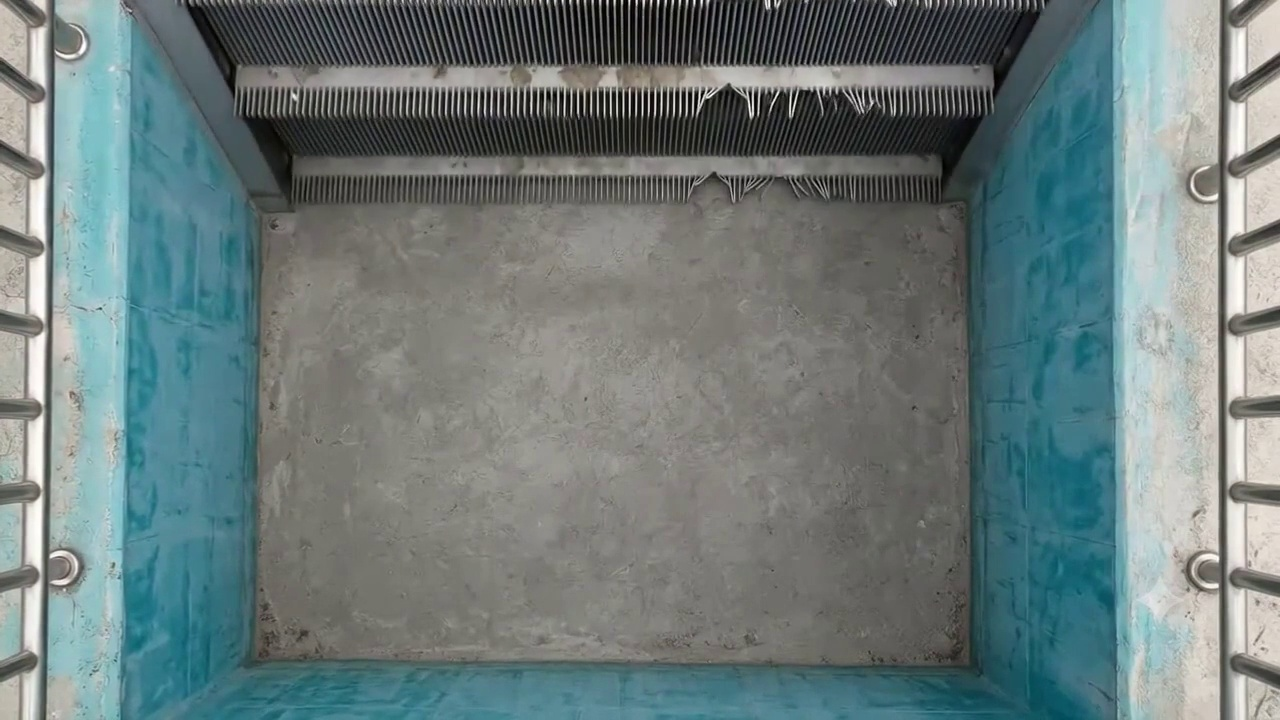damage: (680, 70, 900, 126), (686, 164, 857, 212)
